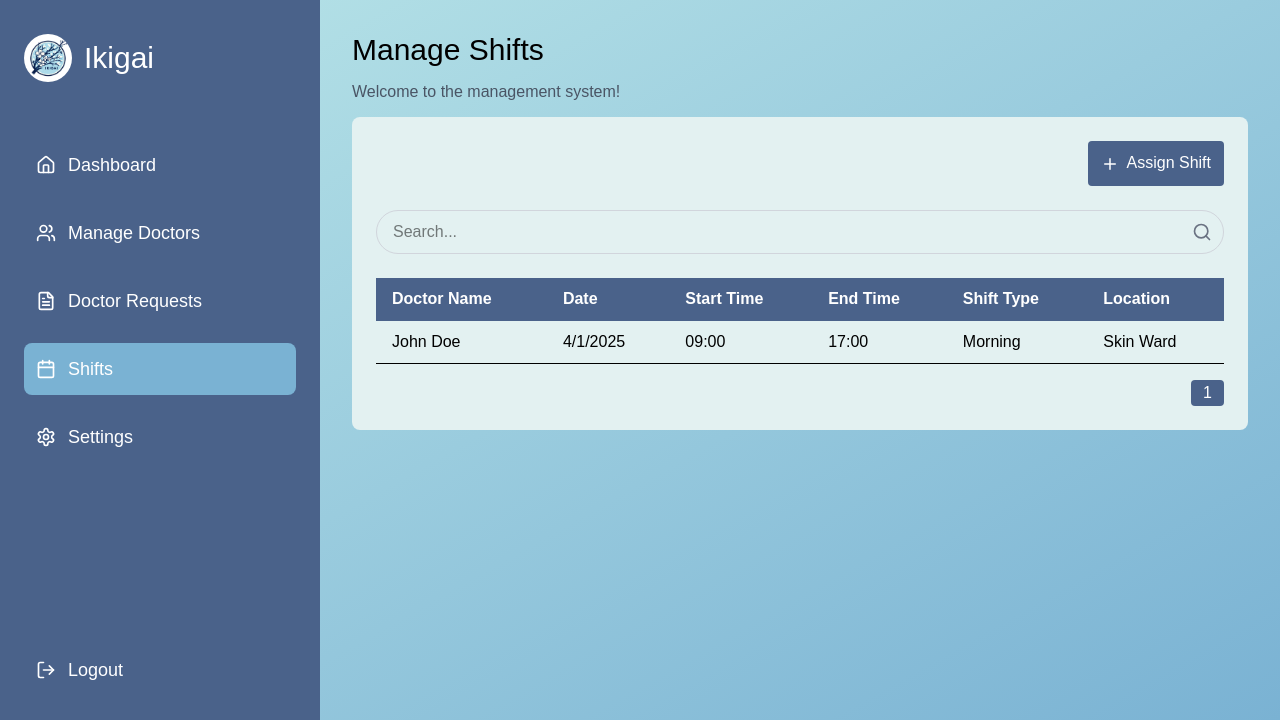
Healthcare System E2E Tests › User Story 4: Assign Shifts to Doctors › TC_08: Assign Shift with Valid Date/Time
The image size is (1280, 720).
Click the button "Assign Shift".
click(1157, 163)  # box x1=1088 y1=141 x2=1225 y2=185
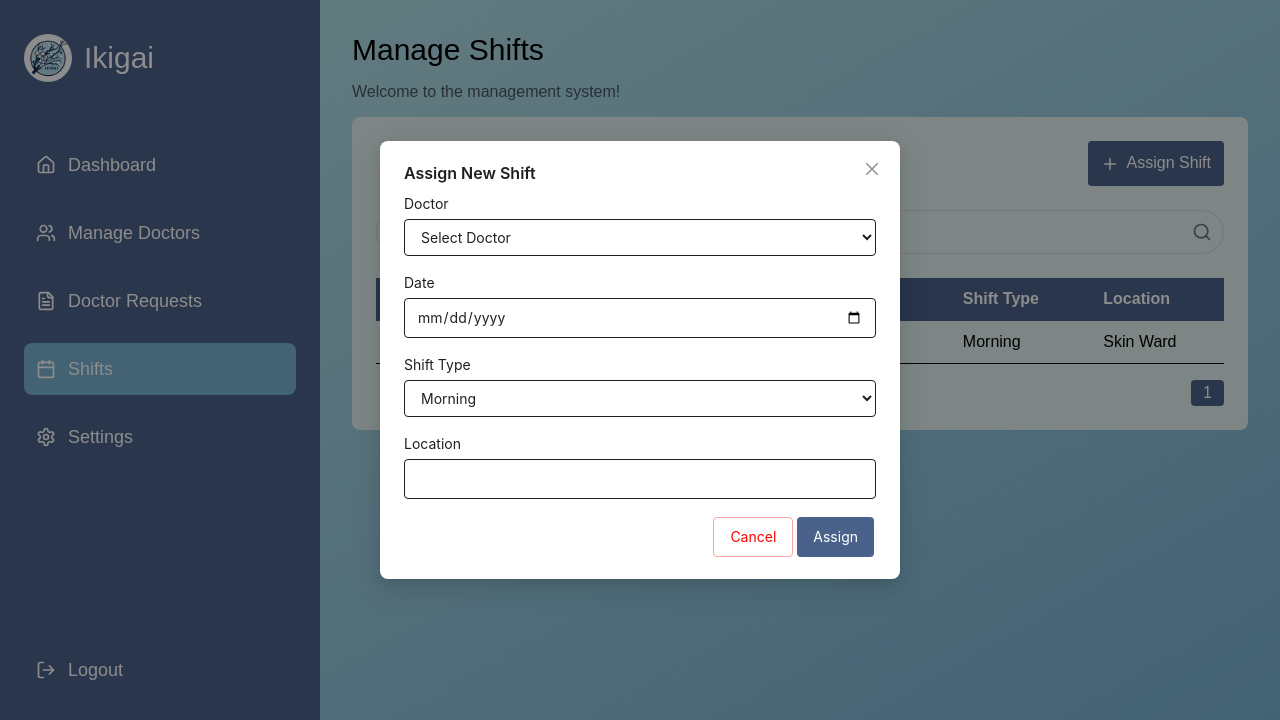
Select "John Doe" in the 1st dropdown named "doctorId" at (640, 238), box x1=404 y1=219 x2=876 y2=256
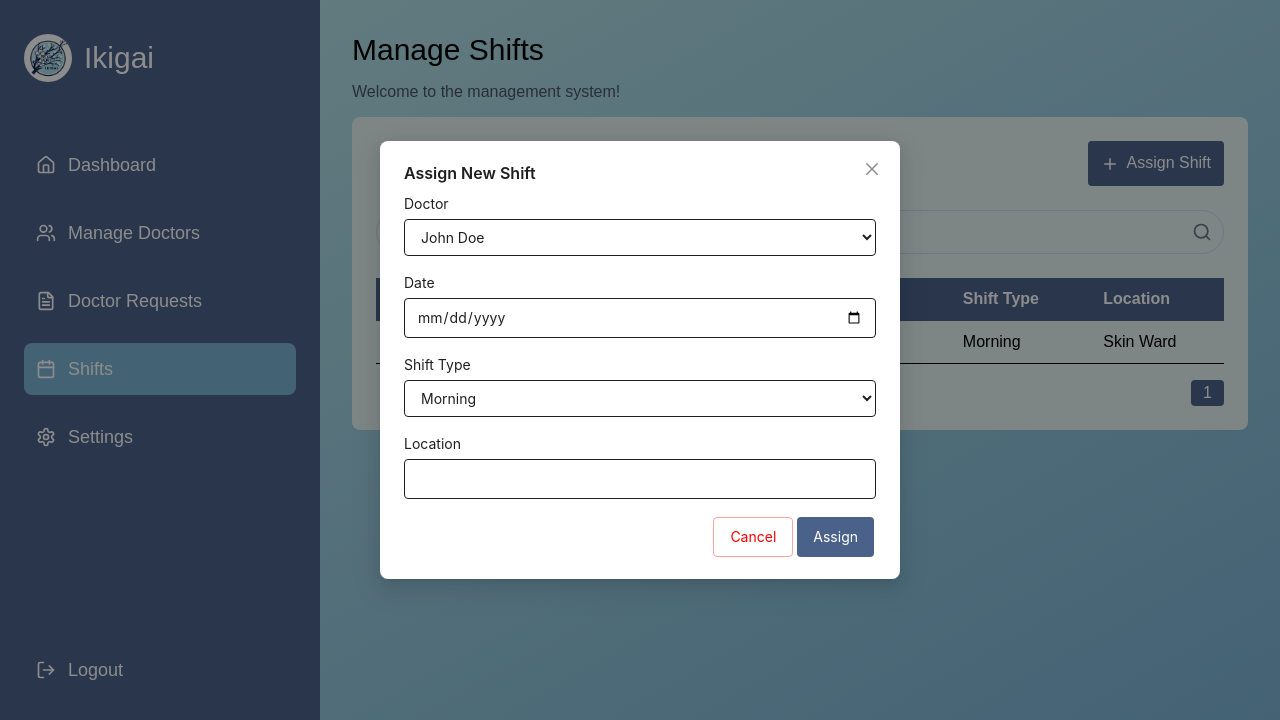
Type "2025-05-01" into the date field named "date".
click(640, 318); type("2025-05-01")  # box x1=404 y1=298 x2=876 y2=338
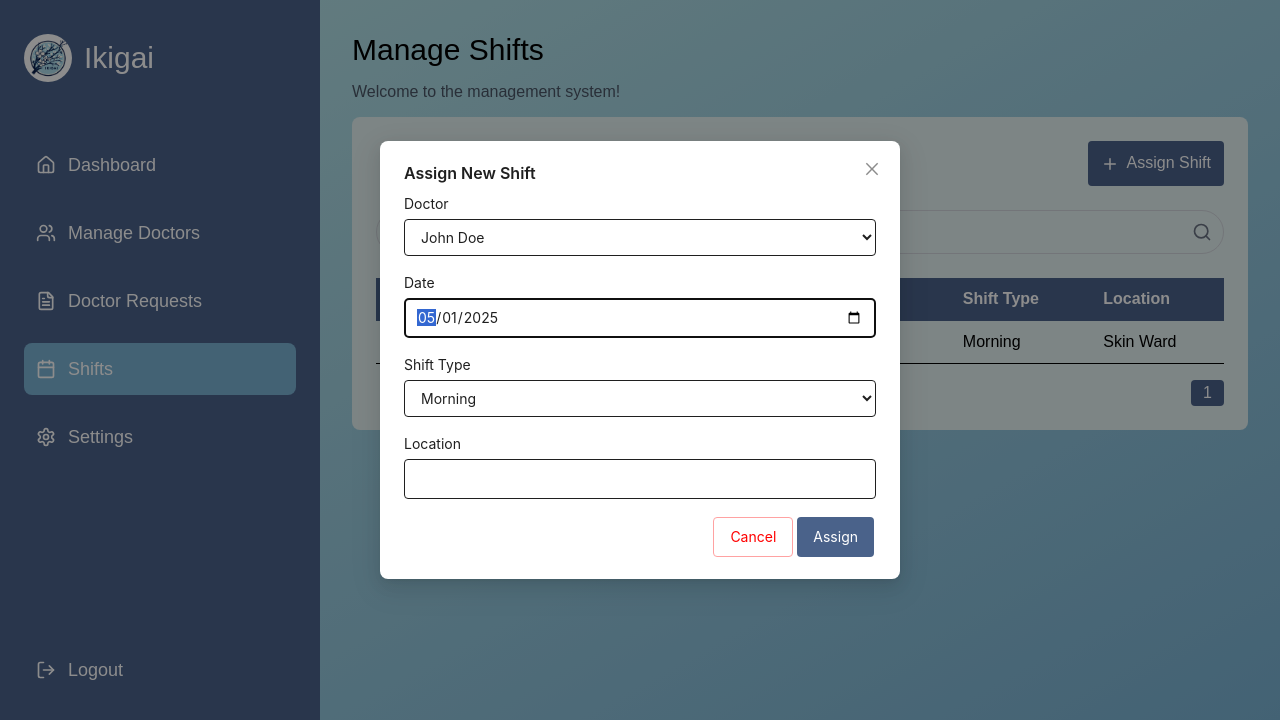
Select "Morning" in the 2nd dropdown named "shiftType" at (640, 399), box x1=404 y1=380 x2=876 y2=417
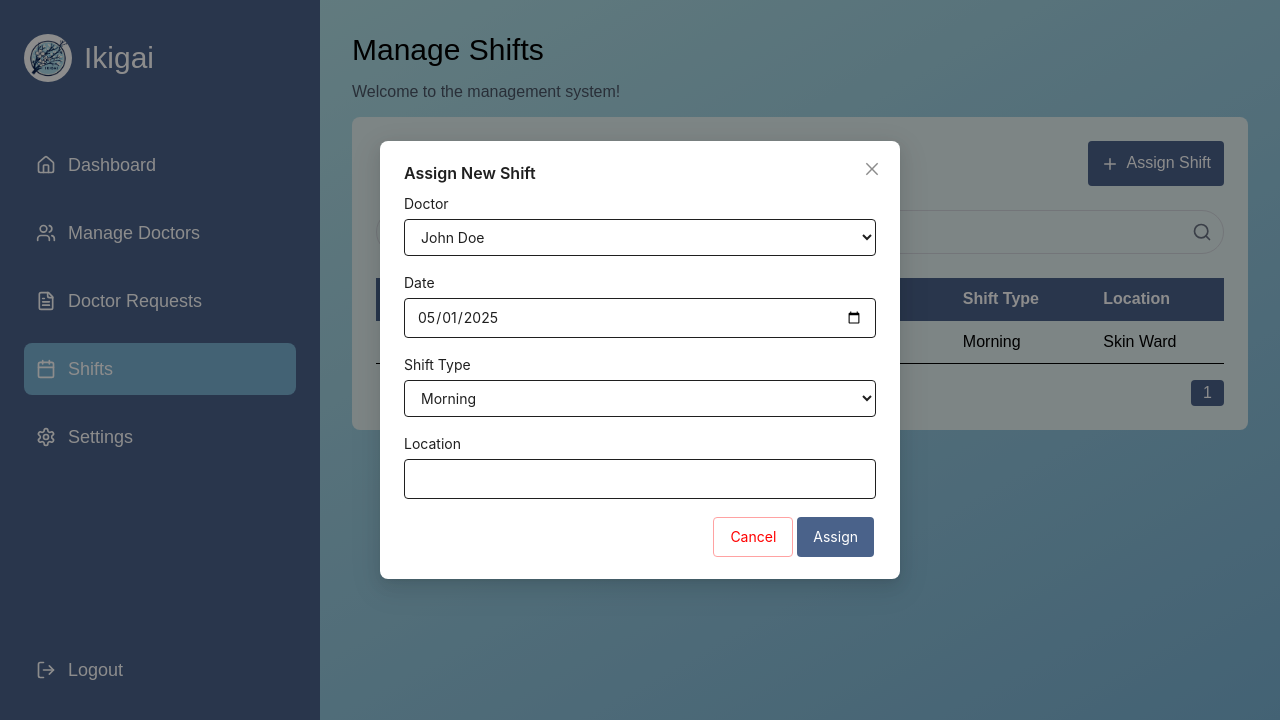
Type "Cardiology Ward" into the field named "location".
click(640, 479); type("Cardiology Ward")  # box x1=404 y1=459 x2=876 y2=499
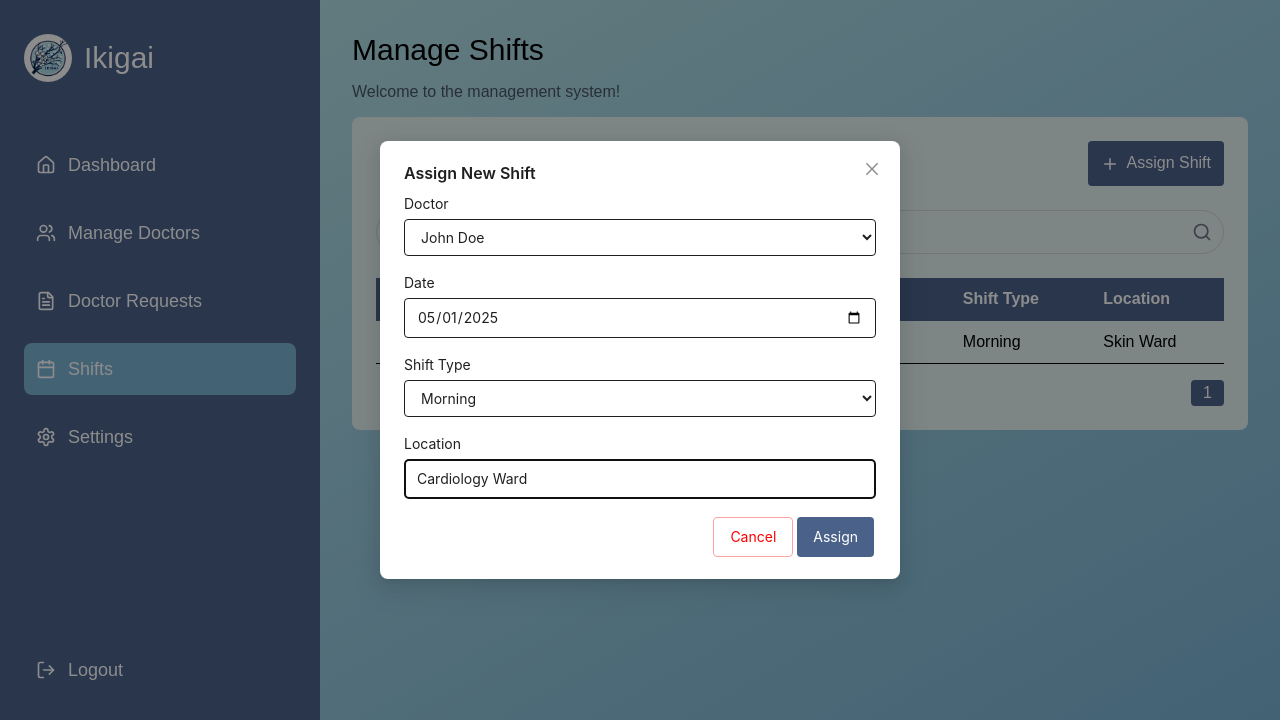
Click the button with test id "Assign-btn".
click(836, 537)  # box x1=797 y1=517 x2=874 y2=557
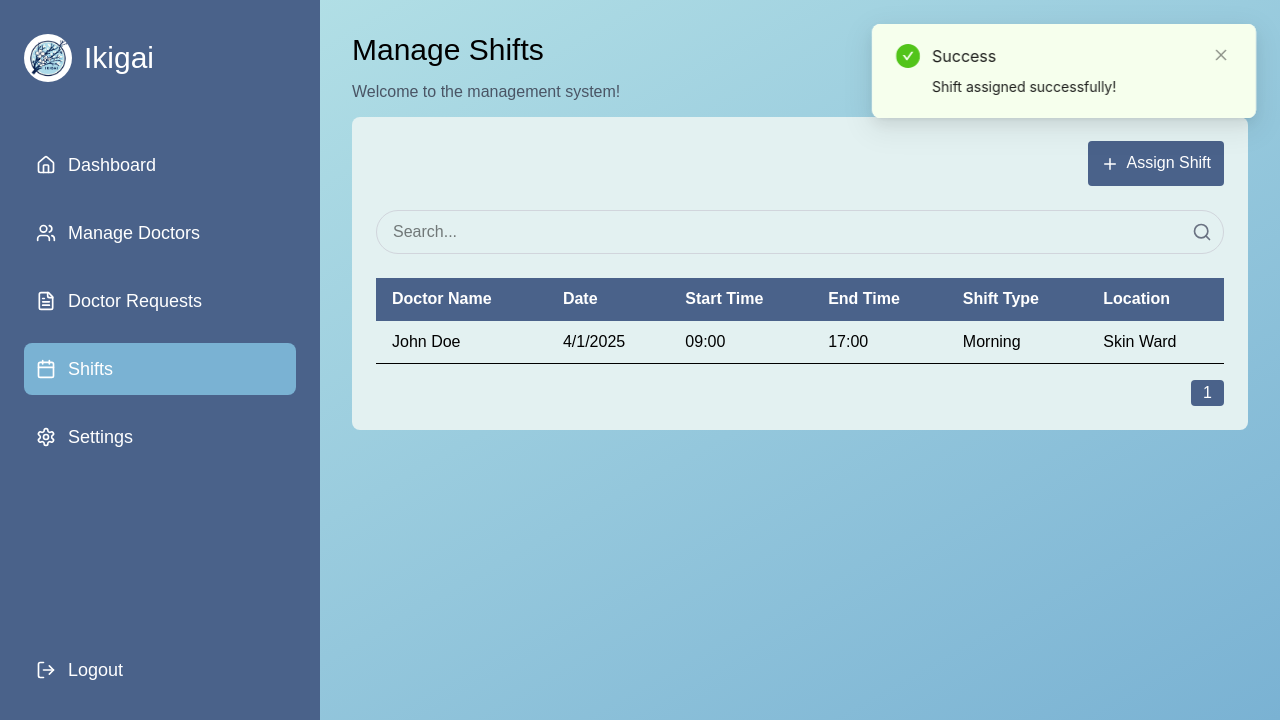
Expected: the text "Success" is shown, x1=932 y1=46 x2=996 y2=66
Expected: the text "Shift assigned successfully" is shown, x1=932 y1=78 x2=1116 y2=95
